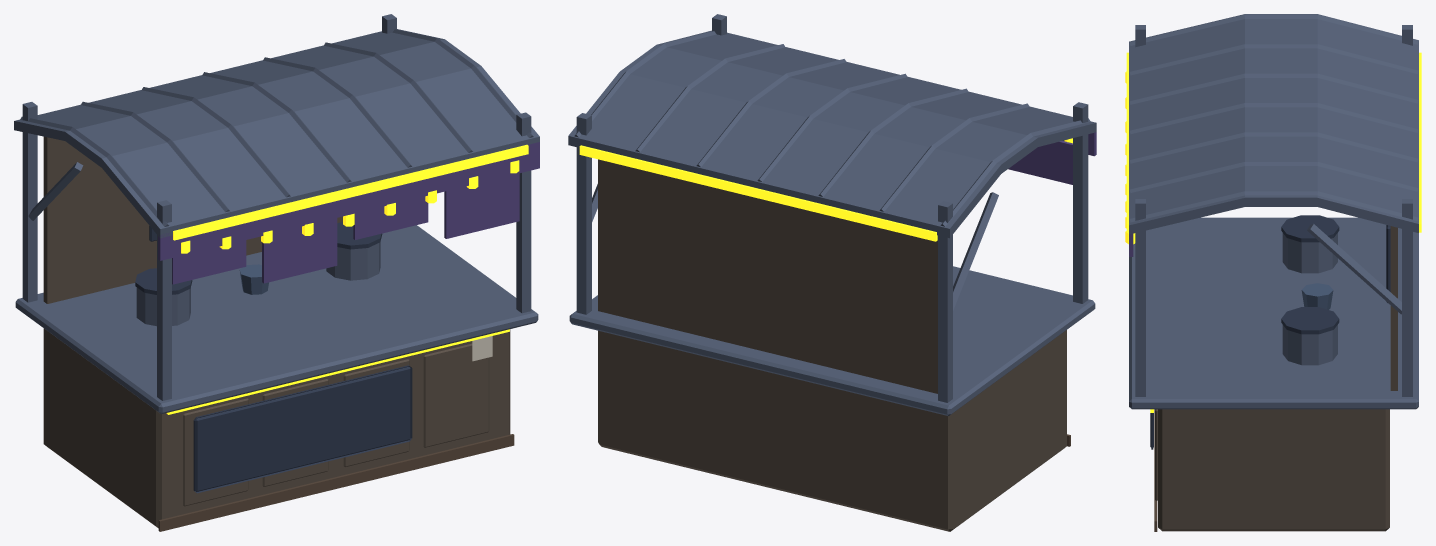
File: city_stall.glb
3 views of the same model, side by side, from view 1: azimuth 30°, elevation 25°; view 2: azimuth 150°, elevation 25°; view 3: azimuth 270°, elevation 25° (orthographic).
Visible parts, largest first — view 1: canopy, counter, counter_base, menu_frame, back_panel, valance, front_panel.003, bulb, kick_strip, noren.003, noren.001, post (+12 smaller); view 2: canopy, counter_base, back_panel, counter, bulb, post.001, post.002, post, noren; view 3: canopy, counter, counter_base, post.002, post.003, cooking_pot.001, cooking_pot, pot_lid.001, back_panel, pot_lid, bulb, bowl_stack (+1 smaller).
Part boxes in pixels (left/top/right/bottom): canopy: left=14, top=29, right=539, bottom=238; counter: left=15, top=225, right=538, bottom=414; counter_base: left=43, top=328, right=510, bottom=528; menu_frame: left=149, top=226, right=412, bottom=493; back_panel: left=43, top=136, right=342, bottom=303; valance: left=158, top=142, right=539, bottom=260; front_panel.003: left=423, top=343, right=489, bottom=447; bulb: left=166, top=144, right=528, bottom=414; kick_strip: left=158, top=434, right=514, bottom=531; noren.003: left=444, top=173, right=519, bottom=238; noren.001: left=262, top=218, right=337, bottom=283; post: left=22, top=102, right=37, bottom=302; canopy: left=568, top=30, right=1096, bottom=310; counter_base: left=598, top=330, right=1066, bottom=531; back_panel: left=598, top=159, right=937, bottom=393; counter: left=569, top=266, right=1095, bottom=416; bulb: left=579, top=138, right=1072, bottom=241; post.001: left=1073, top=102, right=1088, bottom=303; post.002: left=576, top=113, right=591, bottom=314; post: left=938, top=201, right=952, bottom=402; noren: left=1008, top=141, right=1072, bottom=184; canopy: left=1129, top=14, right=1418, bottom=314; counter: left=1129, top=217, right=1418, bottom=409; counter_base: left=1158, top=409, right=1389, bottom=531; post.002: left=1402, top=199, right=1412, bottom=396; post.003: left=1135, top=199, right=1145, bottom=396; cooking_pot.001: left=1282, top=325, right=1337, bottom=365; cooking_pot: left=1282, top=233, right=1337, bottom=273; pot_lid.001: left=1281, top=307, right=1339, bottom=334; back_panel: left=1390, top=226, right=1397, bottom=390; pot_lid: left=1281, top=215, right=1339, bottom=242; bulb: left=1125, top=52, right=1421, bottom=412; bowl_stack: left=1301, top=283, right=1333, bottom=309.
Bounding box in the file's own units: 3 × 2.62 × 2.04.
